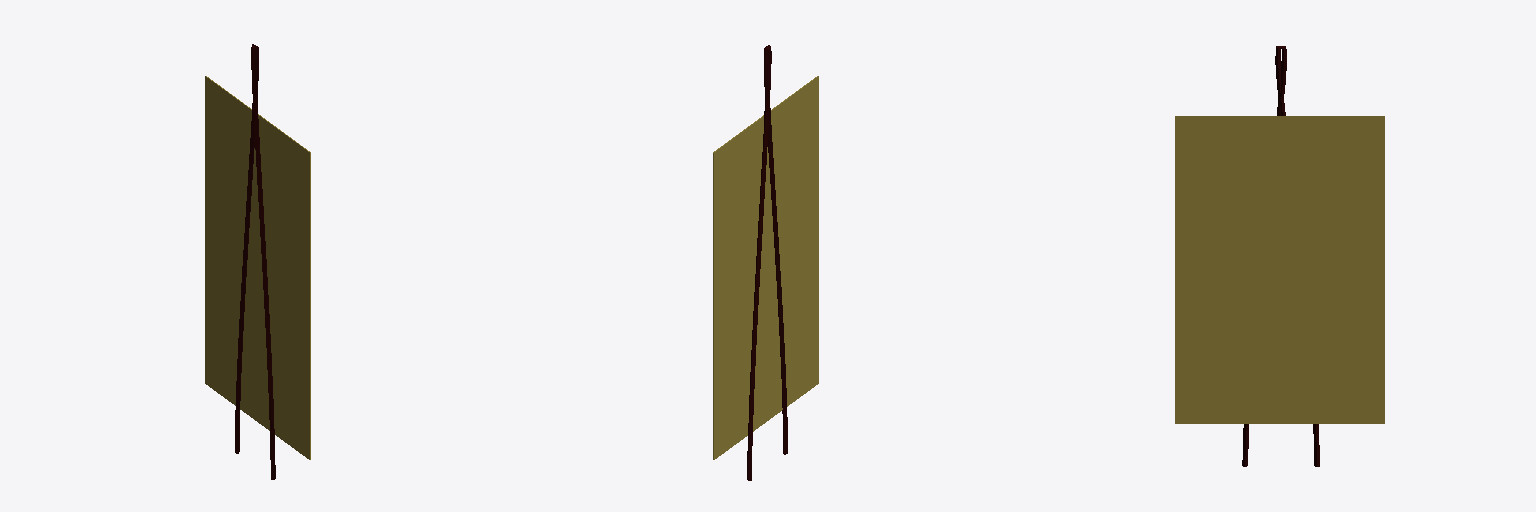
Rendered from balsatop.obj.
3 views of the same model, side by side, from view 1: azimuth 30°, elevation 25°; view 2: azimuth 150°, elevation 25°; view 3: azimuth 270°, elevation 25° (orthographic).
Visible parts, largest first — view 1: Plane.003, BezierCurve.016_CUBezierCurve.001; view 2: Plane.003, BezierCurve.016_CUBezierCurve.001; view 3: Plane.003, BezierCurve.016_CUBezierCurve.001.
Boxes of the visible parts, x1=… form: Plane.003: x1=205, y1=76, x2=310, y2=459; BezierCurve.016_CUBezierCurve.001: x1=235, y1=44, x2=275, y2=479; Plane.003: x1=713, y1=76, x2=818, y2=459; BezierCurve.016_CUBezierCurve.001: x1=747, y1=45, x2=787, y2=480; Plane.003: x1=1175, y1=116, x2=1384, y2=423; BezierCurve.016_CUBezierCurve.001: x1=1242, y1=46, x2=1319, y2=466.
Bounding box in the file's own units: 0.0144 × 1.1 × 0.4941.